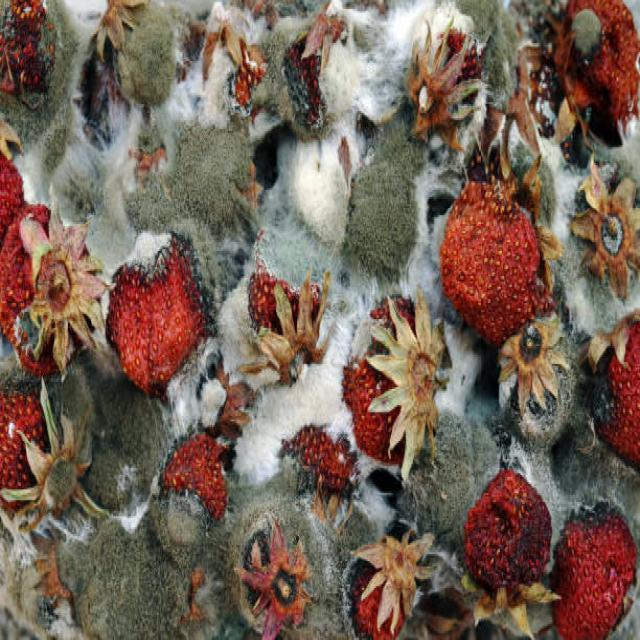Moho gris: (8, 382, 153, 568), (94, 197, 219, 393), (55, 0, 205, 149), (353, 294, 462, 490), (231, 3, 369, 156), (232, 460, 345, 640), (451, 421, 556, 606), (440, 165, 540, 350), (0, 213, 112, 374), (394, 11, 512, 158), (533, 6, 637, 152), (245, 226, 338, 389), (560, 142, 639, 332), (551, 466, 633, 640), (506, 296, 592, 457), (157, 410, 227, 578)
